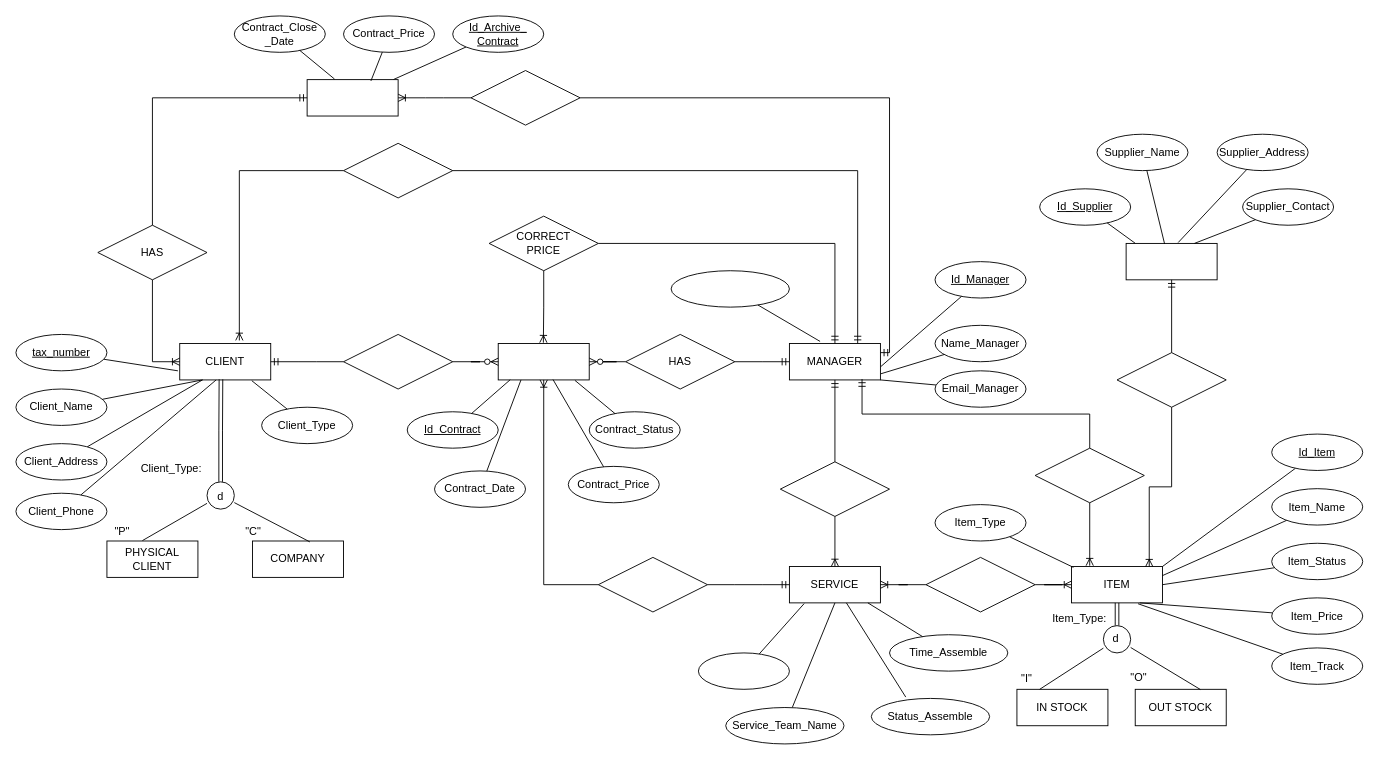
The diagram is 1379 pixels wide and 760 high, and some of its shapes have lost their labels. Each missing label, with the box of its shape:
ASSEMBLE: (597, 556, 708, 612)
CALCULATE DISCOUNT: (470, 70, 580, 125)
CONTRACT: (497, 343, 589, 380)
Contract_Notification: (670, 270, 789, 307)
CREATE ORDER: (779, 461, 890, 516)
GET ITEM: (925, 556, 1035, 612)
HISTORY ORDER: (306, 79, 398, 116)
Id_Service: (698, 652, 789, 689)
MAKE ORDER: (1034, 447, 1144, 503)
MAKE PAYMENT: (343, 334, 453, 389)
REPORT: (343, 142, 453, 198)
SUPPLIER: (1125, 243, 1217, 280)
SUPPLY: (1116, 352, 1226, 407)
